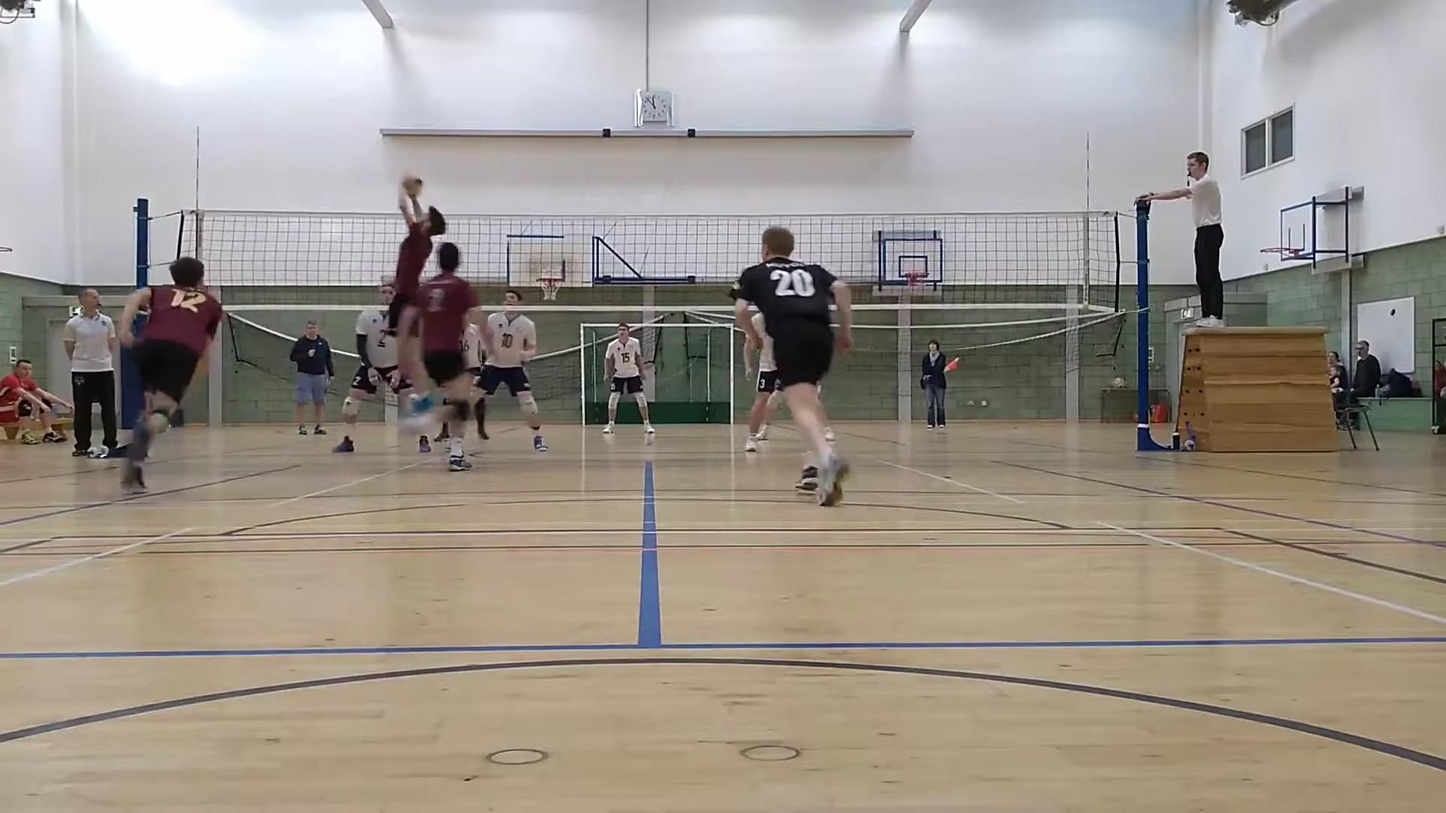alzata: (378, 161, 450, 383)
